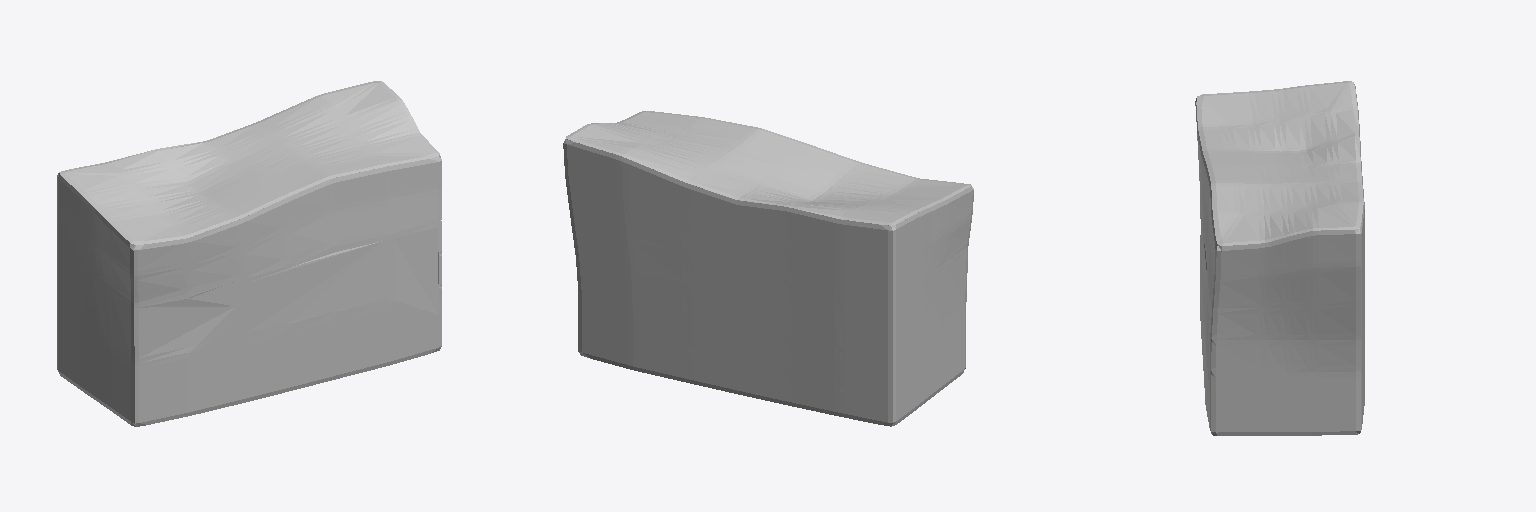
Rendered from grass.obj.
The picture shows the model from 3 angles: view 1: azimuth 30°, elevation 25°; view 2: azimuth 150°, elevation 25°; view 3: azimuth 270°, elevation 25°; orthographic projection.
Parts seen in each view (by area): view 1: Cube_Cube.001, Cube_Cube.000; view 2: Cube_Cube.001, Cube_Cube.000; view 3: Cube_Cube.001, Cube_Cube.000.
Part boxes in pixels (x1,y1,x2,y2): Cube_Cube.001: (57, 81, 441, 426); Cube_Cube.000: (59, 81, 439, 244); Cube_Cube.001: (563, 136, 973, 426); Cube_Cube.000: (567, 111, 970, 225); Cube_Cube.001: (1195, 84, 1364, 435); Cube_Cube.000: (1196, 81, 1363, 245).
Size of the model in its own units: 2.96 by 1.84 by 1.32.